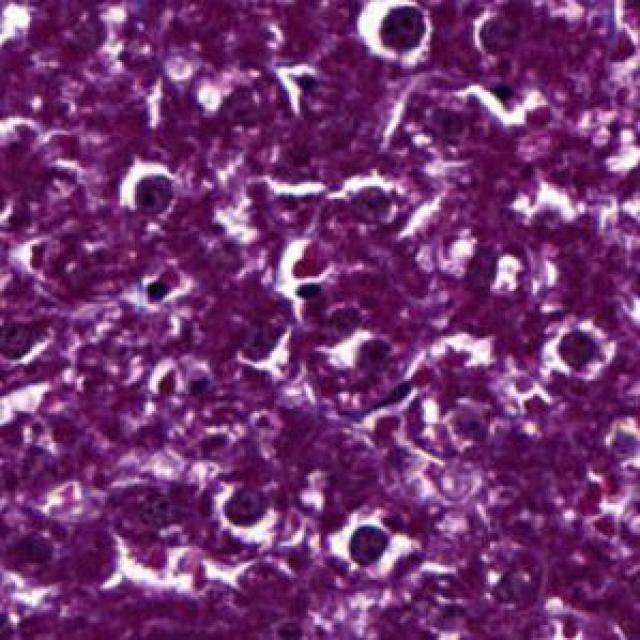inflammation: (535, 310, 623, 390), (323, 512, 420, 580), (353, 0, 441, 73), (201, 486, 285, 550), (111, 154, 182, 225)
